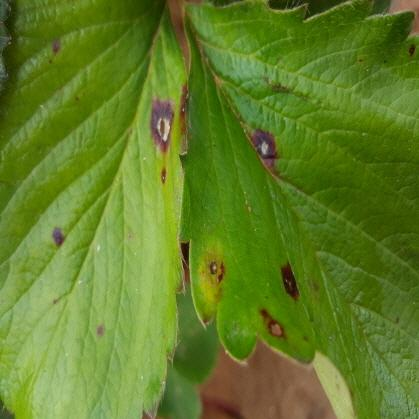Leaf Spot: (178, 0, 418, 418), (0, 0, 188, 418)
